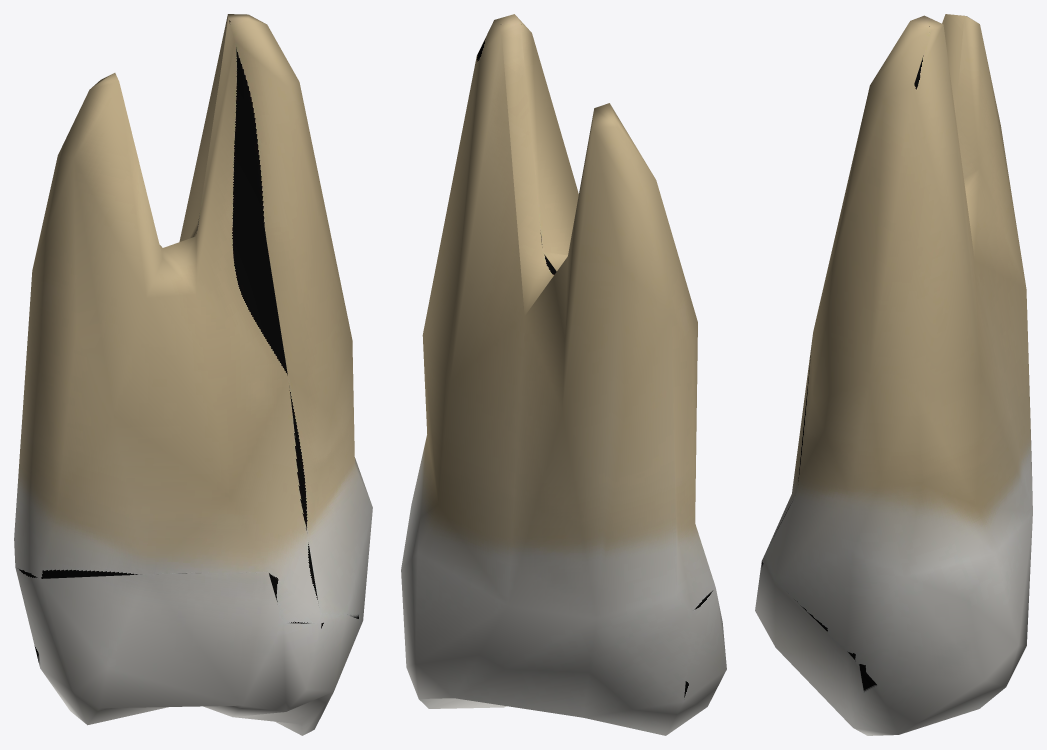
3 views of the same model, side by side, from view 1: azimuth 30°, elevation 25°; view 2: azimuth 150°, elevation 25°; view 3: azimuth 270°, elevation 25° (orthographic). The views are drawn at different scales.
Parts seen in each view (by area): view 1: Object_3; view 2: Object_3; view 3: Object_3.
Part boxes in pixels (box(x1,y1,x2,y2)): Object_3: box(14, 14, 372, 735); Object_3: box(401, 14, 726, 735); Object_3: box(755, 14, 1032, 735).
Size of the model in its own units: 0.3904 by 0.8559 by 0.3082.
Materials: 1 (1 with a texture image).
